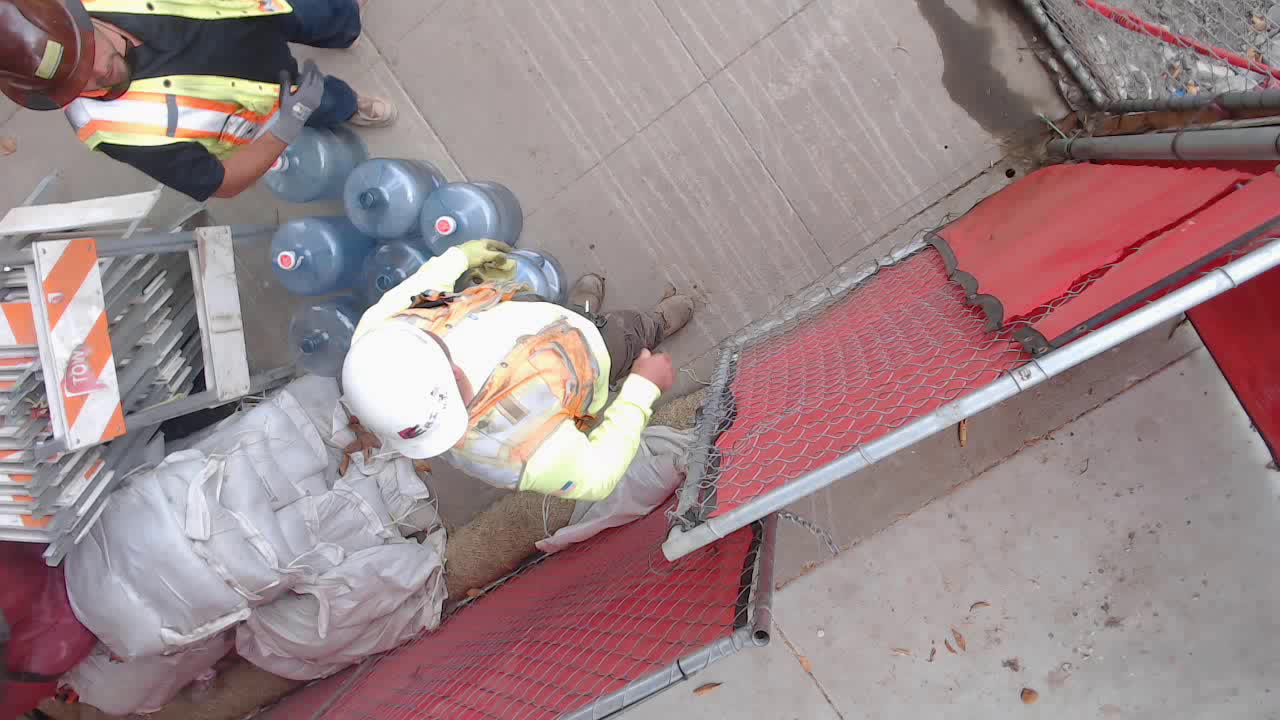hardhat: (338, 322, 468, 457)
safetyvest: (381, 289, 602, 505), (62, 1, 295, 154)
